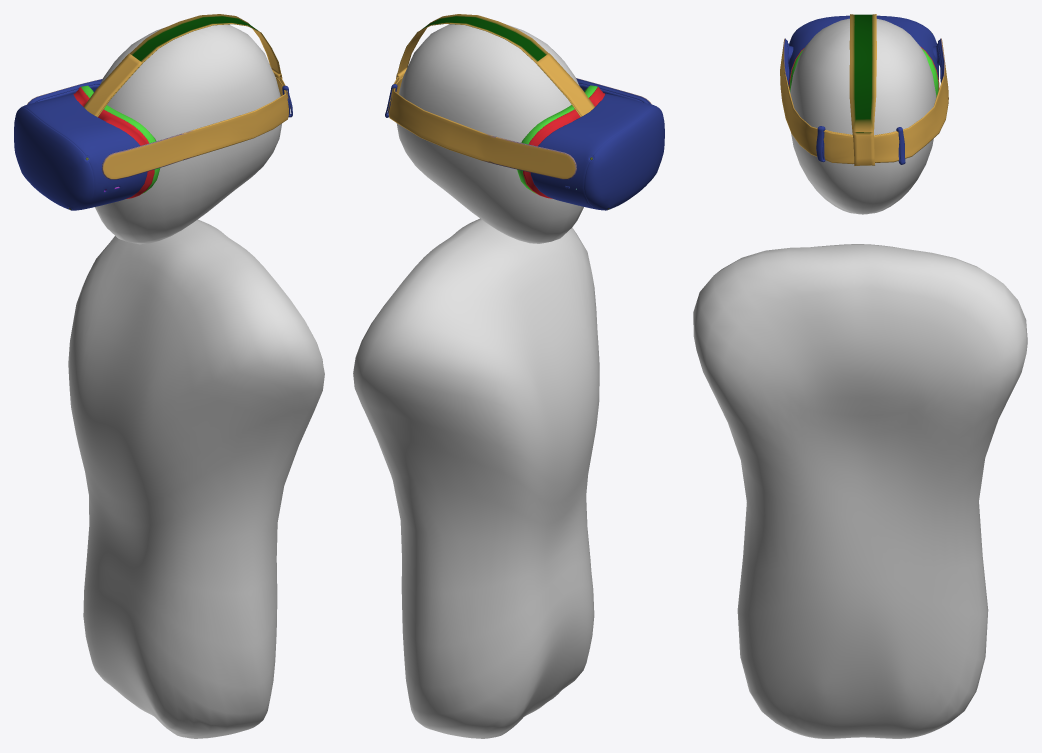
File: Oculus.fbx
3 renders of one model, left to right at view 1: azimuth 30°, elevation 25°; view 2: azimuth 150°, elevation 25°; view 3: azimuth 270°, elevation 25°, orthographic.
Visible parts, largest first — view 1: Oculus Headset.001; view 2: Oculus Headset.001; view 3: Oculus Headset.001.
Boxes of the visible parts, x1,y1,x2,y2 form: Oculus Headset.001: (14, 14, 324, 738); Oculus Headset.001: (353, 14, 664, 738); Oculus Headset.001: (693, 14, 1027, 738).
Size of the model in its own units: 46.9 by 129 by 55.22.
